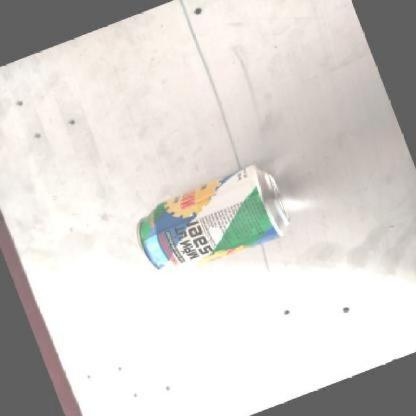Can: (136, 166, 289, 270)
